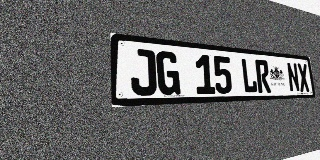1: (194, 54, 216, 94)
5: (213, 56, 233, 94)
G: (156, 50, 181, 95)
J: (130, 48, 157, 96)
L: (240, 58, 258, 93)
N: (286, 62, 300, 92)
R: (255, 59, 271, 93)
X: (297, 63, 310, 92)
